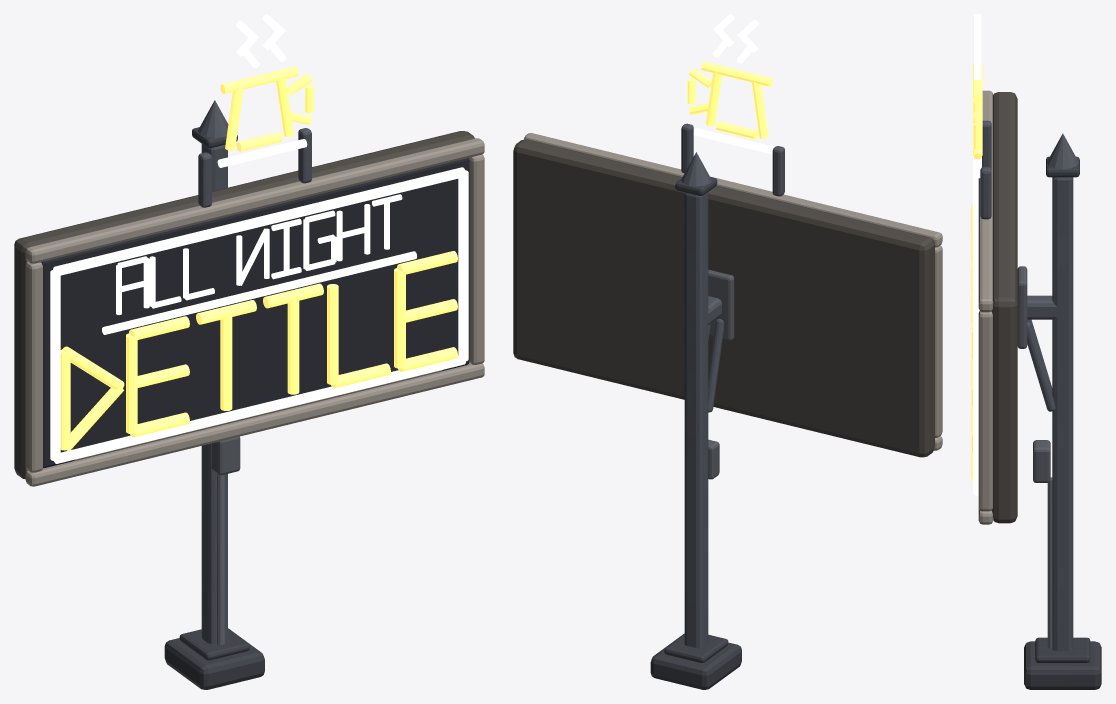
File: sign_diner.glb
3 views of the same model, side by side, from view 1: azimuth 30°, elevation 25°; view 2: azimuth 150°, elevation 25°; view 3: azimuth 270°, elevation 25° (orthographic). The views are drawn at different scales.
Visible parts, largest first — view 1: sign_diner_face, sign_diner_rail_top, sign_diner_plate, sign_diner_rail_bottom, sign_diner_border_s2, sign_diner_mast_0, sign_diner_border_s0, sign_diner_rail_l, sign_diner_rail_r, sign_diner_foot_0, sign_diner_rule_s0, sign_diner_border_s3 (+21 smaller); view 2: sign_diner_plate, sign_diner_mast_0, sign_diner_rail_top, sign_diner_foot_0, sign_diner_rail_l, sign_diner_stiffener_0, sign_diner_footplate_0, sign_diner_brace_0a, sign_diner_crest_rim_s0, sign_diner_crest_saucer_s0; view 3: sign_diner_plate, sign_diner_mast_0, sign_diner_rail_r, sign_diner_foot_0, sign_diner_rail_top, sign_diner_footplate_0, sign_diner_border_s1, sign_diner_conduit, sign_diner_stiffener_0, sign_diner_border_s2, sign_diner_brace_0b, sign_diner_junction (+7 smaller).
Part boxes in pixels (<box>): sign_diner_face: <box>41,158,469,468</box>; sign_diner_rail_top: <box>25,138,484,263</box>; sign_diner_plate: <box>14,131,474,479</box>; sign_diner_rail_bottom: <box>25,362,484,486</box>; sign_diner_border_s2: <box>53,167,465,275</box>; sign_diner_mast_0: <box>201,144,227,644</box>; sign_diner_border_s0: <box>54,355,465,463</box>; sign_diner_rail_l: <box>25,261,42,472</box>; sign_diner_rail_r: <box>469,154,484,364</box>; sign_diner_foot_0: <box>164,628,264,689</box>; sign_diner_rule_s0: <box>102,251,416,334</box>; sign_diner_border_s3: <box>50,270,60,461</box>; sign_diner_plate: <box>513,139,934,457</box>; sign_diner_mast_0: <box>684,192,708,648</box>; sign_diner_rail_top: <box>524,133,942,247</box>; sign_diner_foot_0: <box>650,633,741,689</box>; sign_diner_rail_l: <box>935,245,942,437</box>; sign_diner_stiffener_0: <box>708,269,734,340</box>; sign_diner_footplate_0: <box>664,634,728,662</box>; sign_diner_brace_0a: <box>708,318,723,412</box>; sign_diner_crest_rim_s0: <box>701,61,772,86</box>; sign_diner_crest_saucer_s0: <box>693,128,774,154</box>; sign_diner_plate: <box>991,92,1017,523</box>; sign_diner_mast_0: <box>1052,177,1073,650</box>; sign_diner_rail_r: <box>978,311,992,511</box>; sign_diner_foot_0: <box>1024,641,1101,689</box>; sign_diner_rail_top: <box>978,90,993,312</box>; sign_diner_footplate_0: <box>1035,637,1090,662</box>; sign_diner_border_s1: <box>973,313,978,493</box>; sign_diner_conduit: <box>1047,477,1052,648</box>; sign_diner_stiffener_0: <box>1017,266,1027,348</box>; sign_diner_border_s2: <box>973,156,979,312</box>; sign_diner_brace_0b: <box>1027,322,1055,411</box>; sign_diner_junction: <box>1033,440,1050,482</box>.
Bounding box in the file's own units: 3.09 × 4.47 × 0.806.
67 materials, 3 textured.
